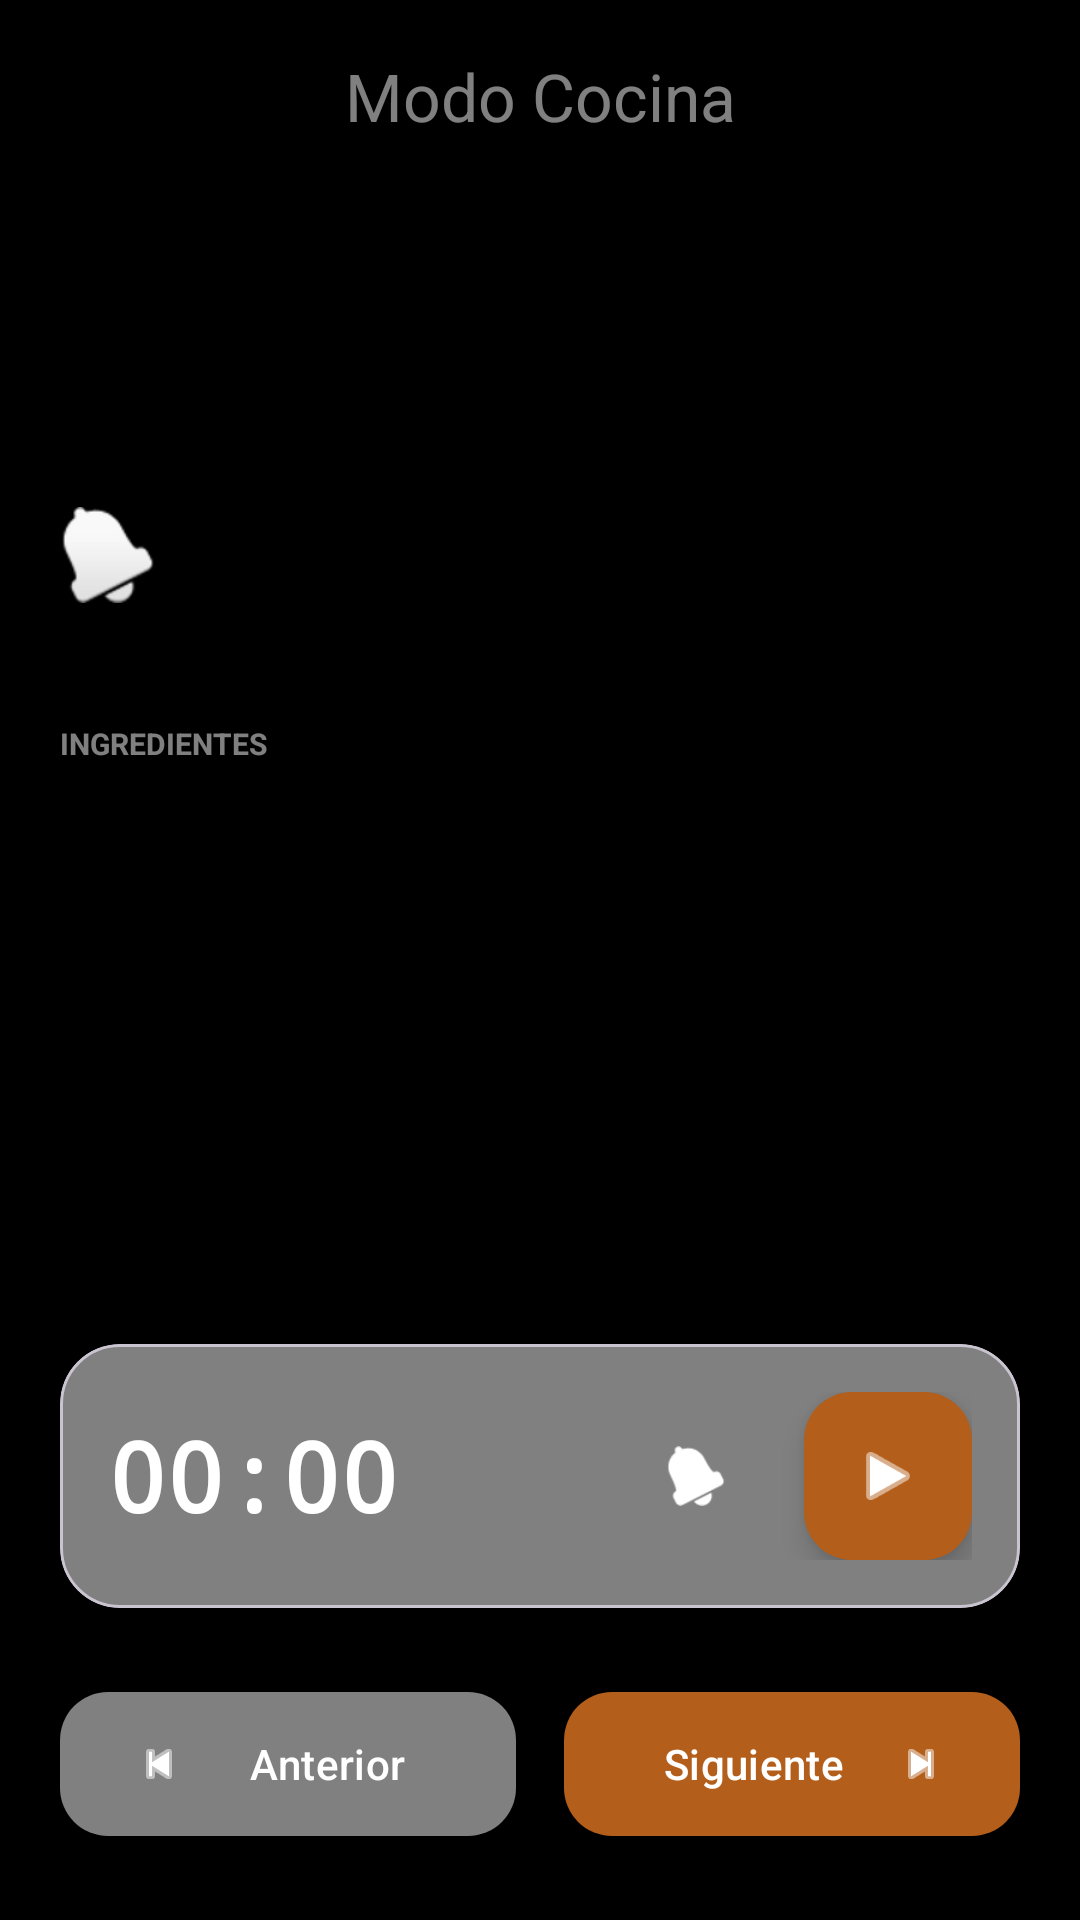

Where to tap for icons on this 1080px×1920px app screen, as (x,y):
play: (888,1476)
